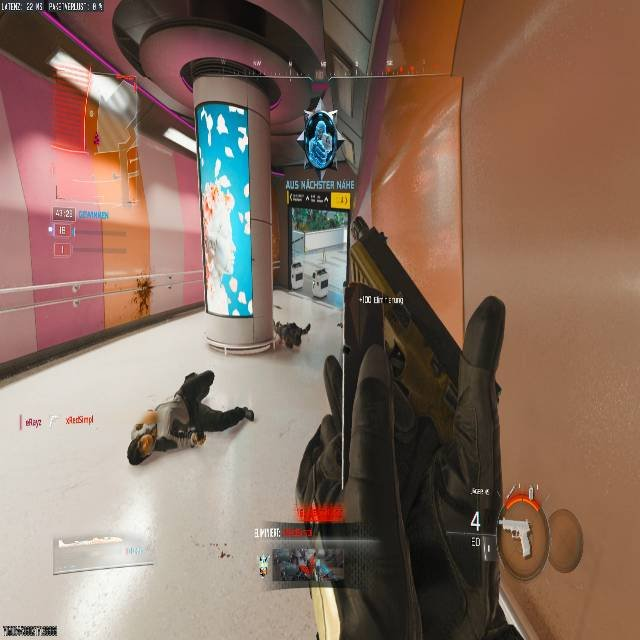player: (133, 272, 154, 315)
